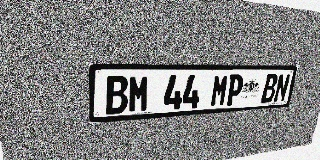4: (163, 75, 184, 110), (182, 75, 202, 109)
B: (105, 75, 128, 115), (260, 74, 279, 103)
M: (128, 75, 150, 113), (210, 74, 229, 107)
N: (273, 74, 291, 102)
P: (225, 74, 244, 106)
